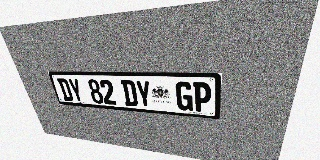2: (99, 79, 117, 105)
8: (87, 79, 104, 104)
D: (121, 80, 138, 107), (57, 78, 74, 101)
G: (175, 81, 193, 111)
P: (193, 82, 212, 112)
Y: (135, 80, 153, 108), (67, 79, 85, 102)
